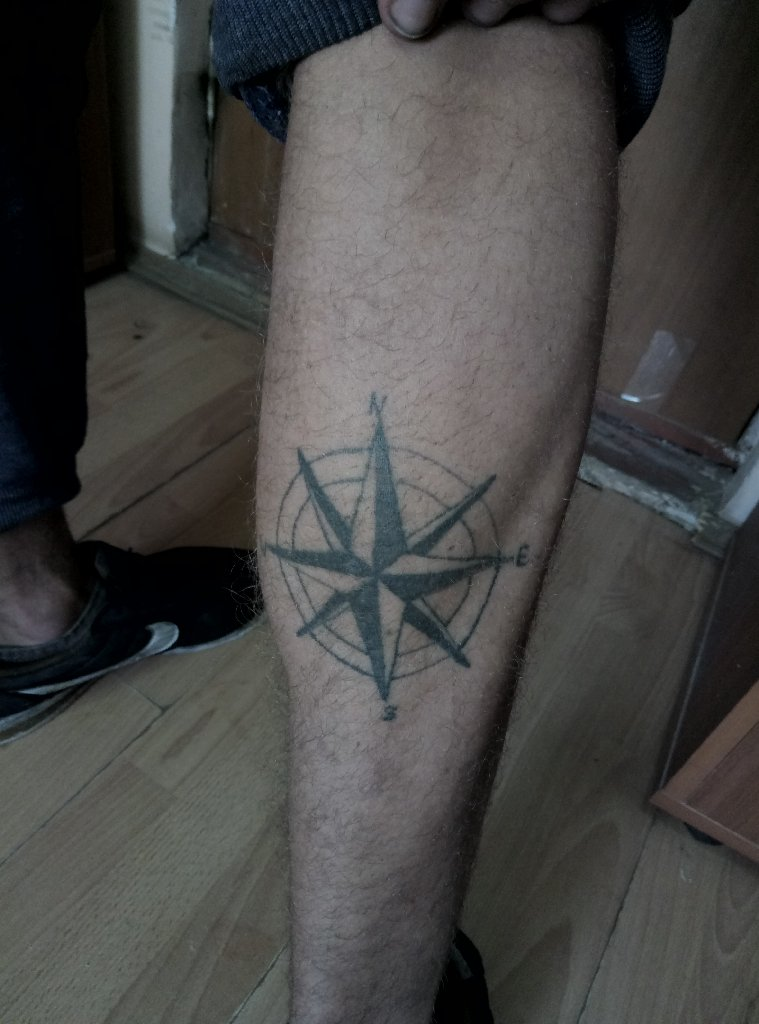tatu4_zvezda: (258, 419, 513, 704)
